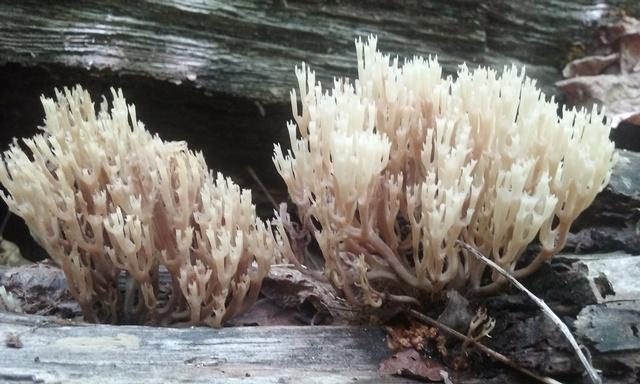Edible Mushroom: (269, 32, 618, 309), (1, 82, 294, 327)
